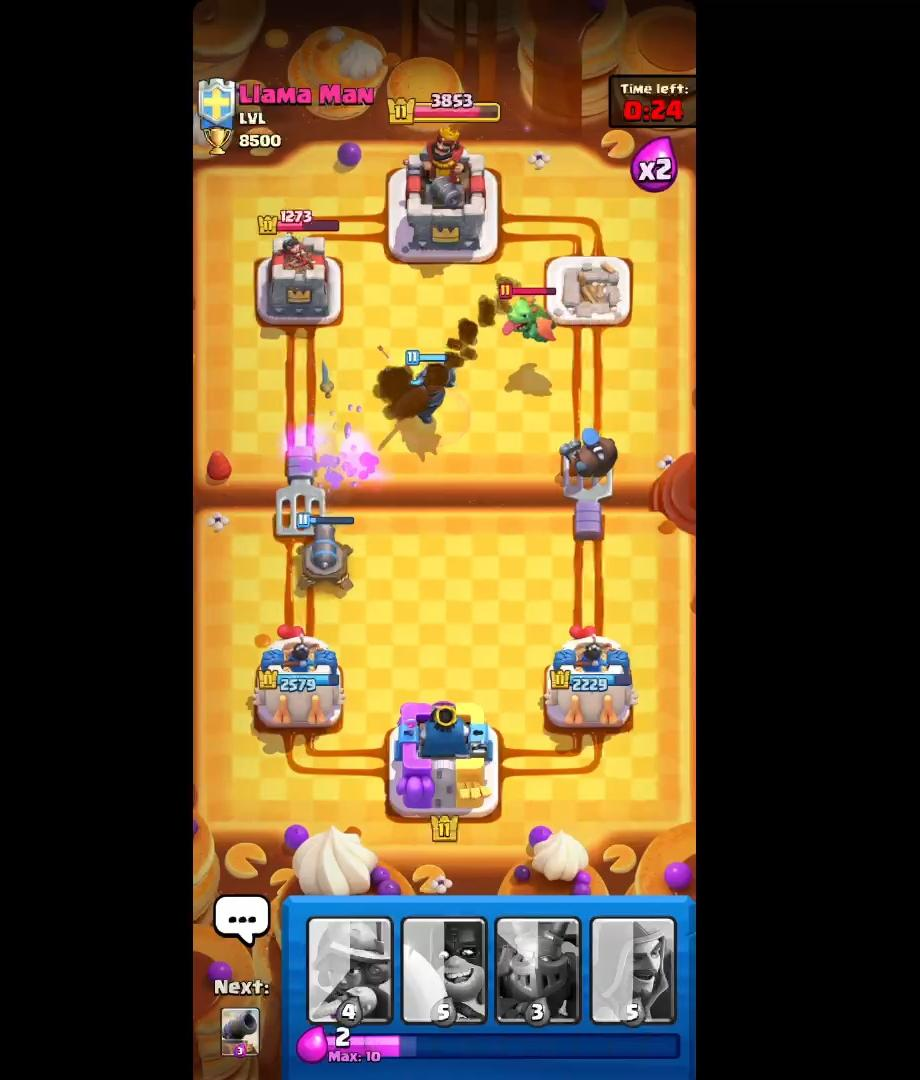Baby Dragon: (494, 278, 565, 348)
